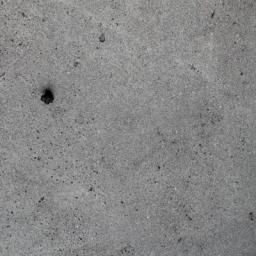FOD: (41, 88, 59, 108)
